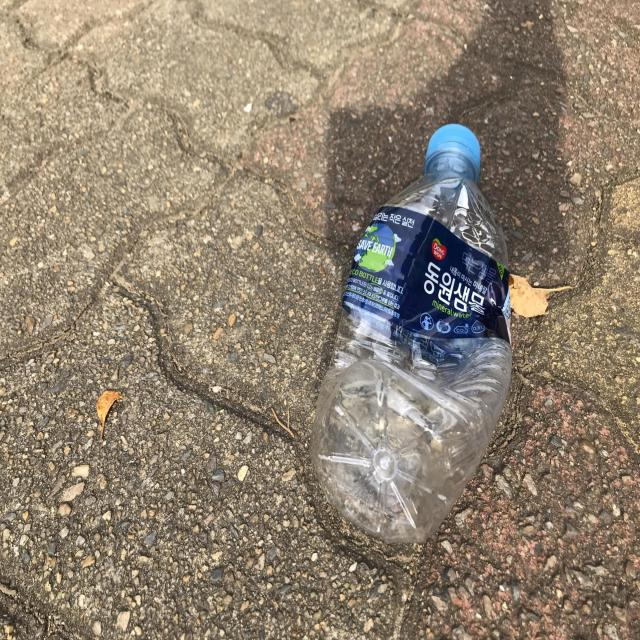plastic: (310, 124, 513, 544)
